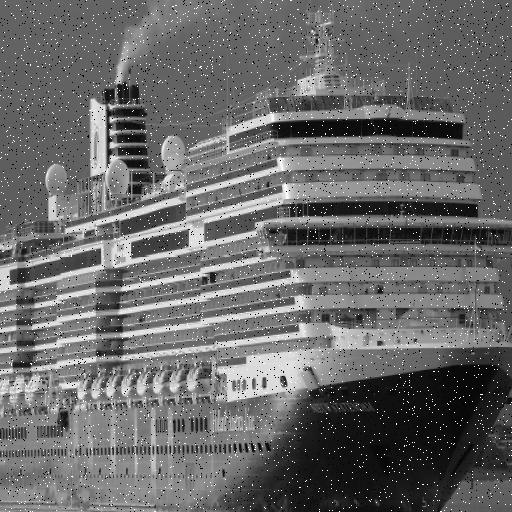cruises: (1, 7, 512, 512)
